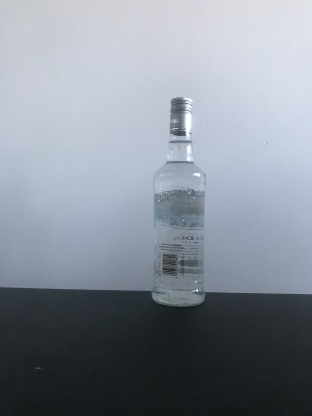nakretka: (168, 95, 194, 136)
